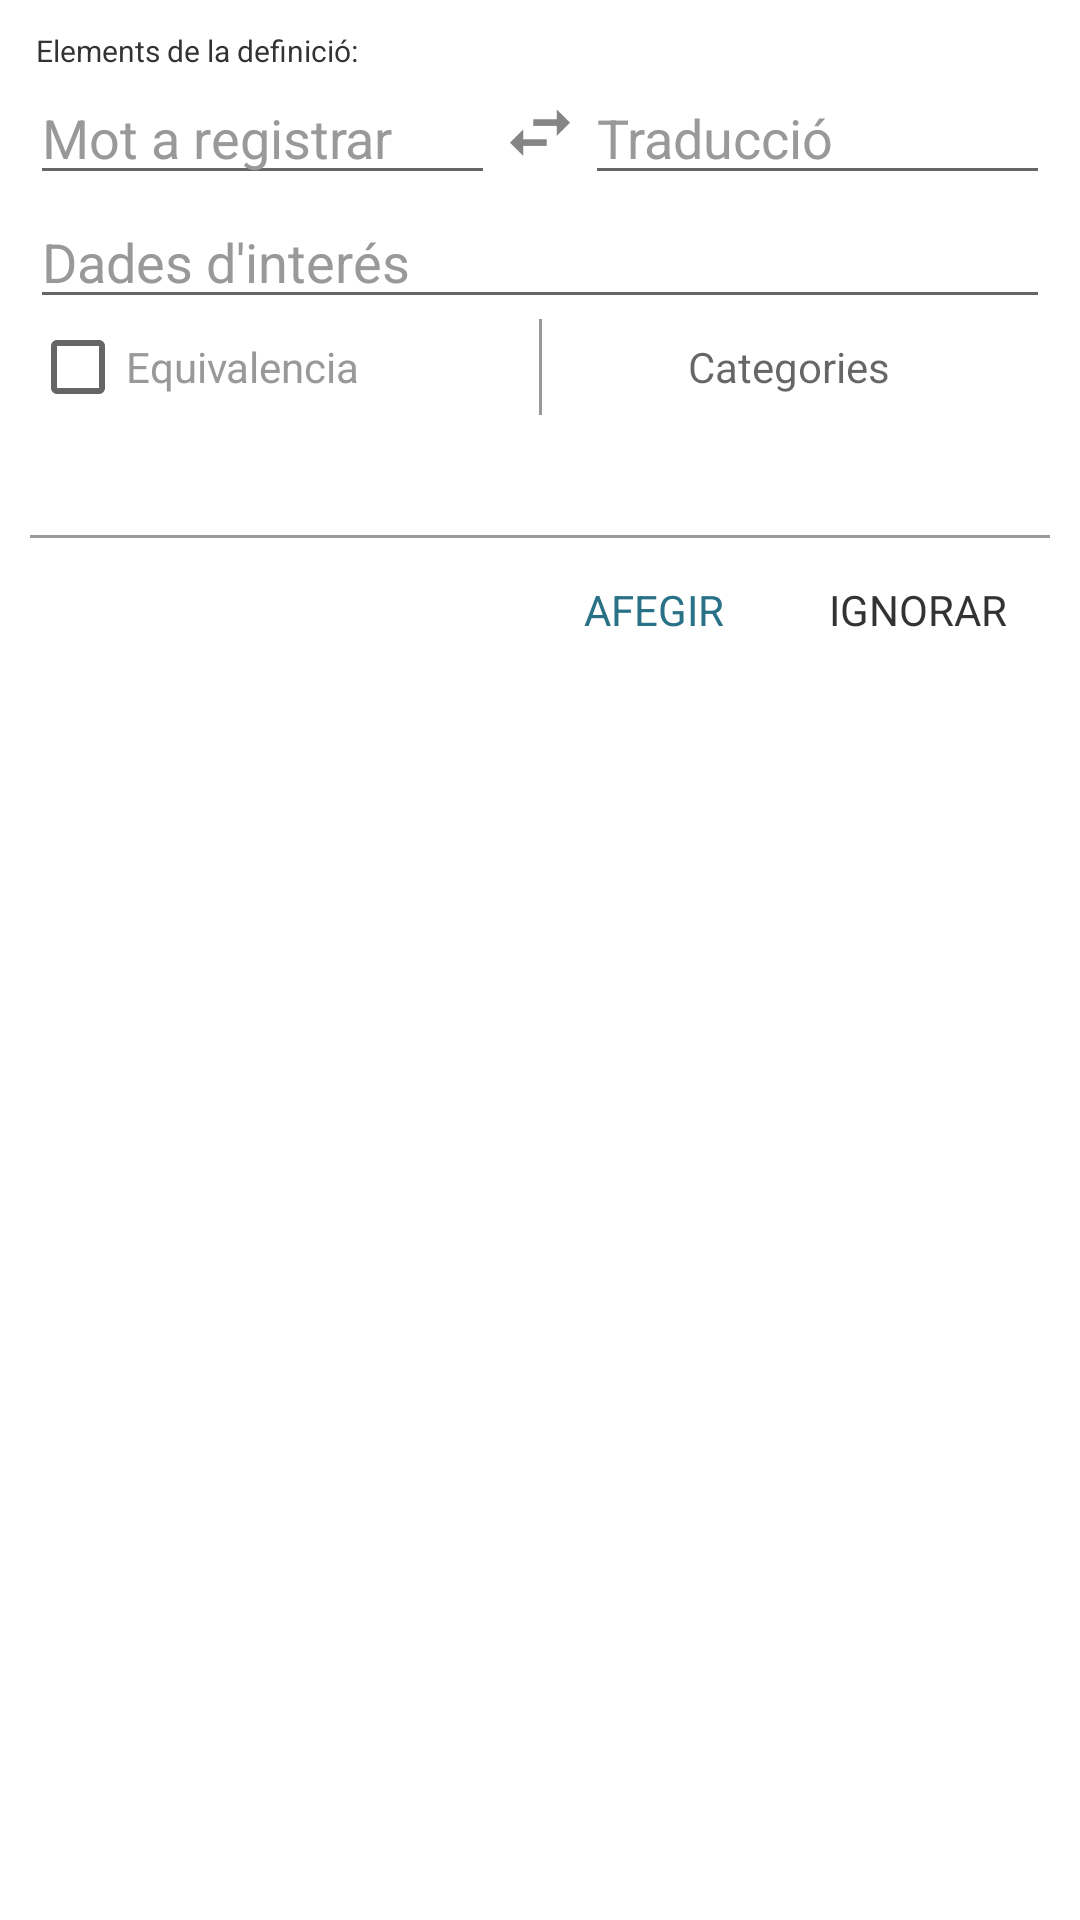

Icon click points for this 1080×1920 phone screenshot, format (x=x, y=y):
swap content: (x=540, y=133)
